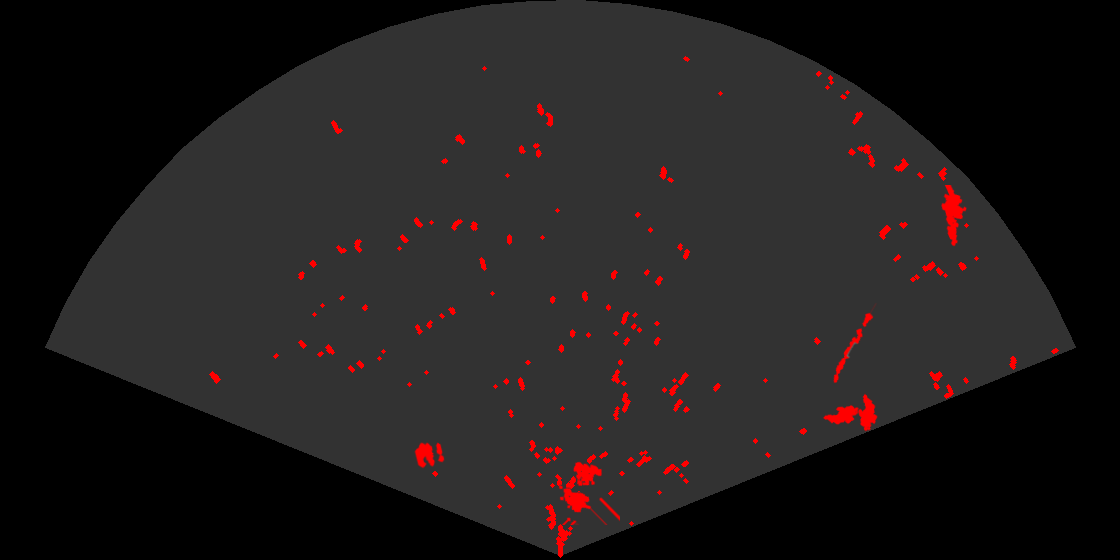AUV: (821, 403, 861, 426), (857, 392, 879, 433)
ball: (413, 441, 446, 470)
cage: (557, 460, 620, 525)
chain: (832, 303, 878, 385)
frogman: (940, 185, 968, 248)
